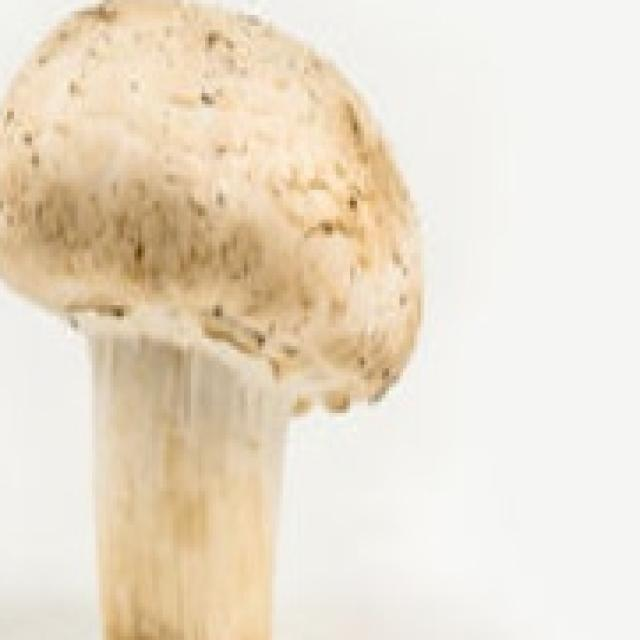mushroom: (0, 0, 431, 640)
